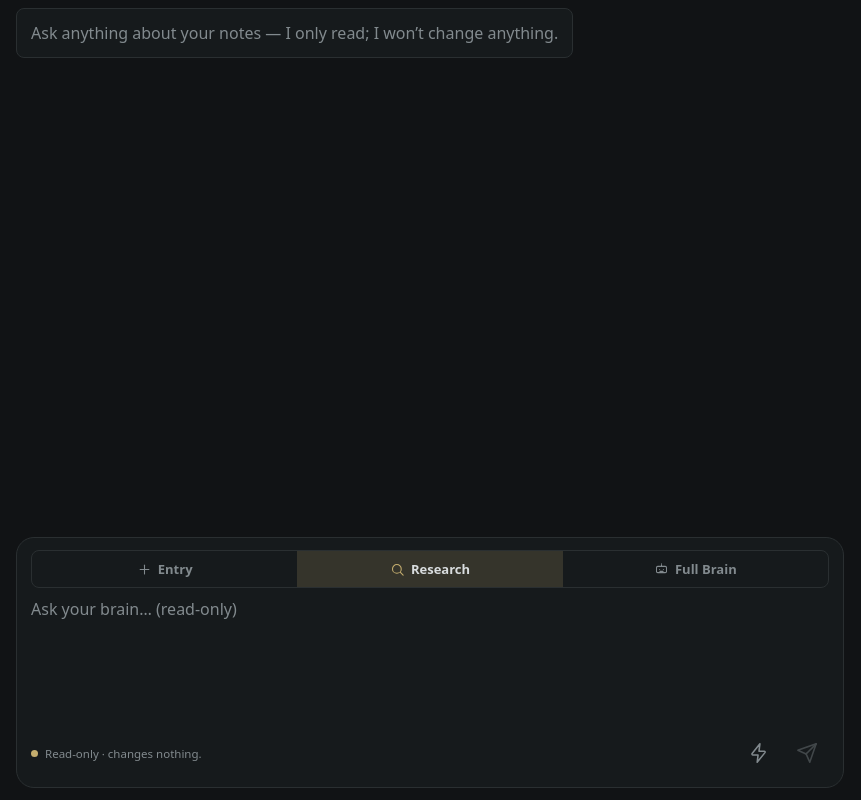
it: Chat — Entry sub-selector & destinations › expands the sub-picker on re-press and loads medical destinations
Click the button "Entry".
click(165, 569)  # box [32, 551, 297, 587]
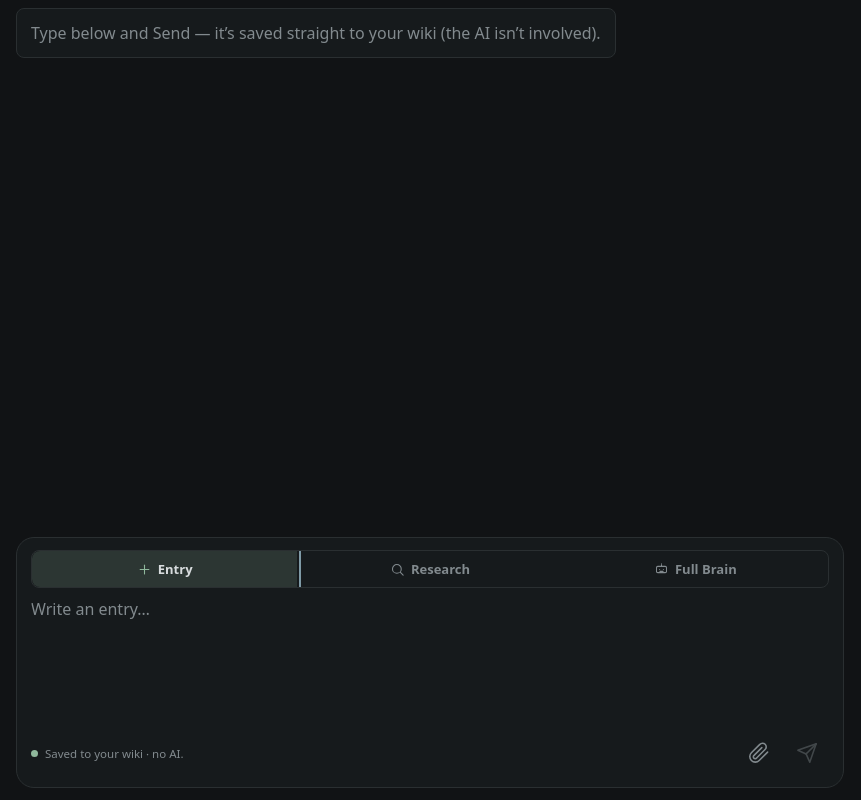
Click the button "Entry".
click(165, 569)  # box [32, 551, 297, 587]
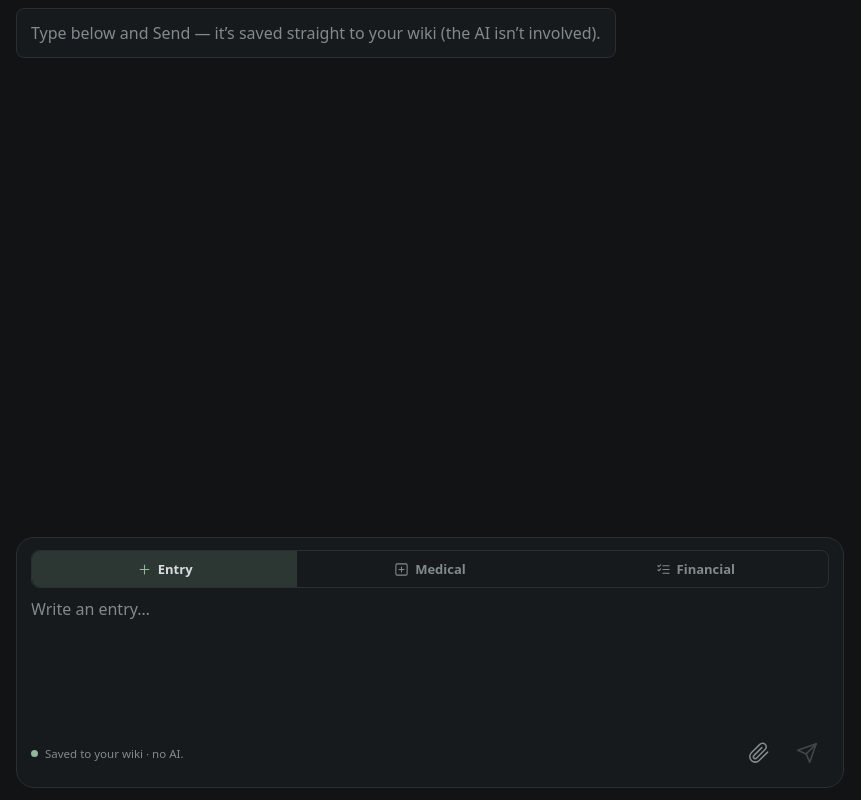
The morphed row now offers Medical / Financial.
Click the button "Medical".
click(430, 569)  # box [297, 551, 563, 587]
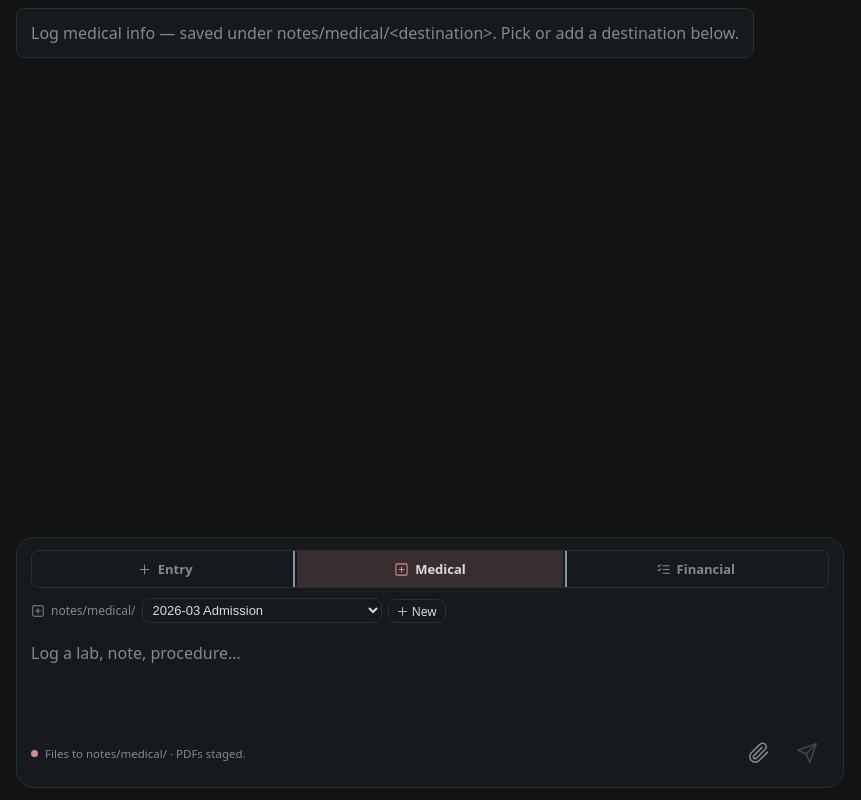
Now the text "notes/medical/" is shown, box [51, 602, 136, 619]
